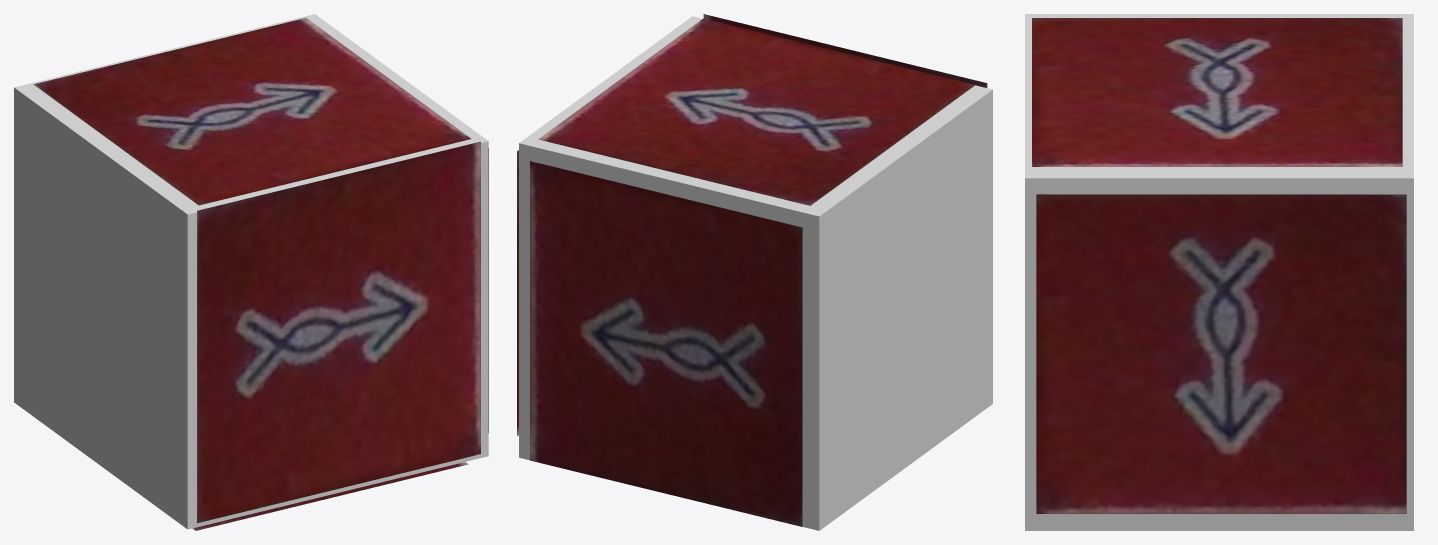
3 renders of one model, left to right at view 1: azimuth 30°, elevation 25°; view 2: azimuth 150°, elevation 25°; view 3: azimuth 270°, elevation 25°, orthographic. The views are drawn at different scales.
Parts seen in each view (by area): view 1: R2.001, Link33, R2, R2.003; view 2: R2.004, Link33, R2, R2.001, R2.002; view 3: R2.002, R2, Link33.
Part boxes in pixels (x1,y1,x2,y2): R2.001: (197,141,480,523); Link33: (14,14,488,529); R2: (33,18,470,205); R2.003: (192,462,468,530); R2.004: (530,161,802,526); Link33: (519,16,992,530); R2: (538,18,975,205); R2.001: (703,14,987,87); R2.002: (517,150,518,435); R2.002: (1036,194,1406,513); R2: (1032,18,1402,166); Link33: (1025,14,1413,530).
Bounding box in the file's own units: 0.356 × 0.3623 × 0.3583.
Materials: 1 (1 with a texture image).
